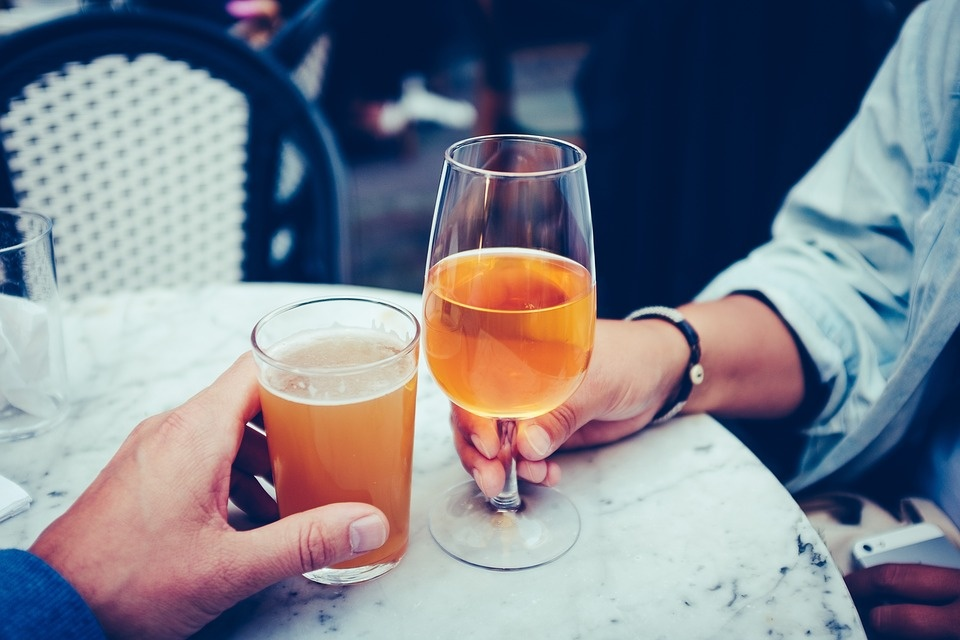glassBeer: (427, 137, 600, 442), (251, 304, 425, 583)
